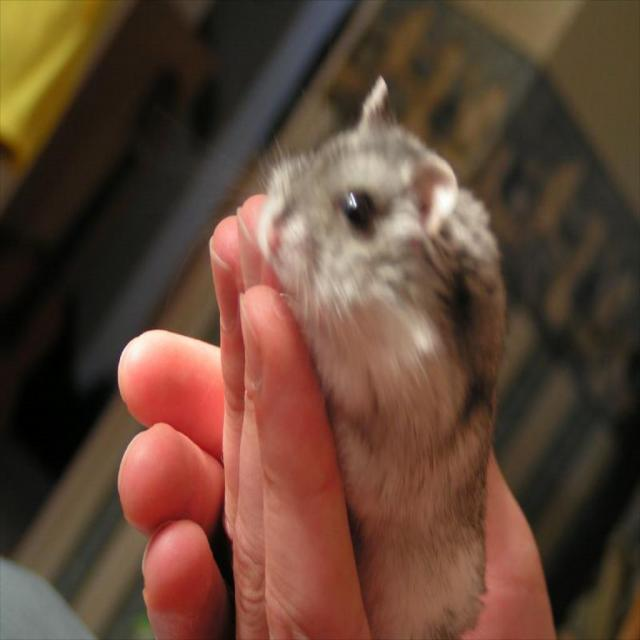rat: (182, 72, 510, 639)
